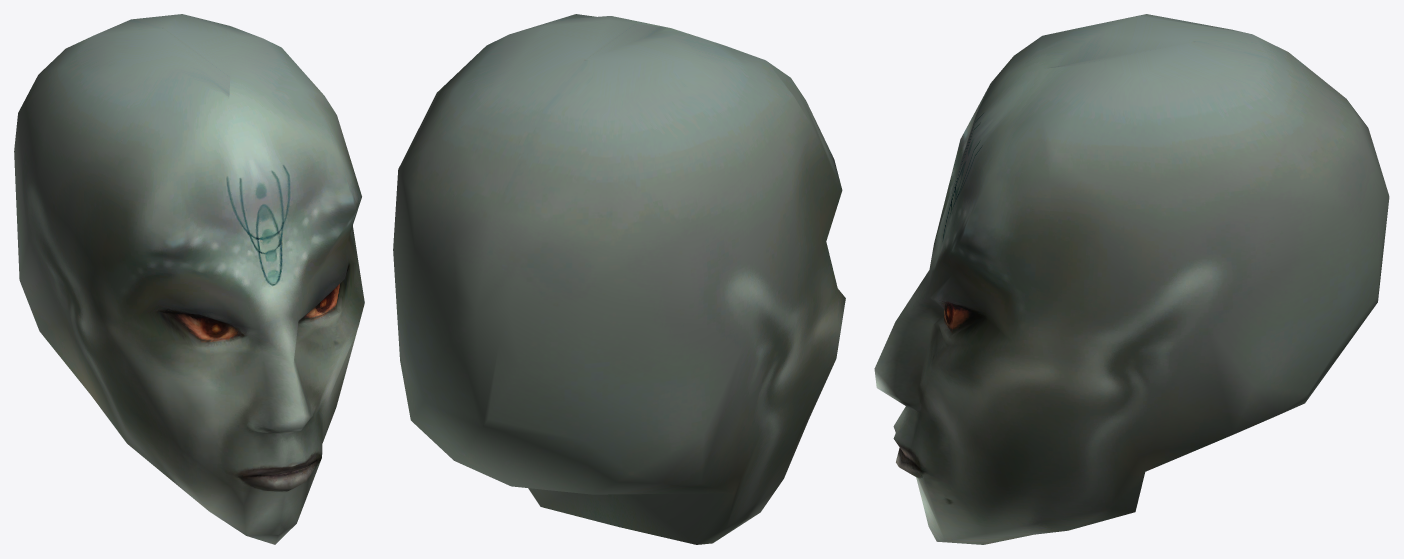
Rendered from b_n_dark elf_f_head_04.glb.
3 views of the same model, side by side, from view 1: azimuth 30°, elevation 25°; view 2: azimuth 150°, elevation 25°; view 3: azimuth 270°, elevation 25° (orthographic). The views are drawn at different scales.
Visible parts, largest first — view 1: Tri B_N_Dark Elf_F_Head_04; view 2: Tri B_N_Dark Elf_F_Head_04; view 3: Tri B_N_Dark Elf_F_Head_04.
Part boxes in pixels (x1,y1,x2,y2): Tri B_N_Dark Elf_F_Head_04: (14, 14, 364, 544); Tri B_N_Dark Elf_F_Head_04: (393, 14, 845, 544); Tri B_N_Dark Elf_F_Head_04: (874, 14, 1389, 544).
Size of the model in its own units: 0.0941 by 0.1518 by 0.1417.
Materials: 1 (1 with a texture image).
